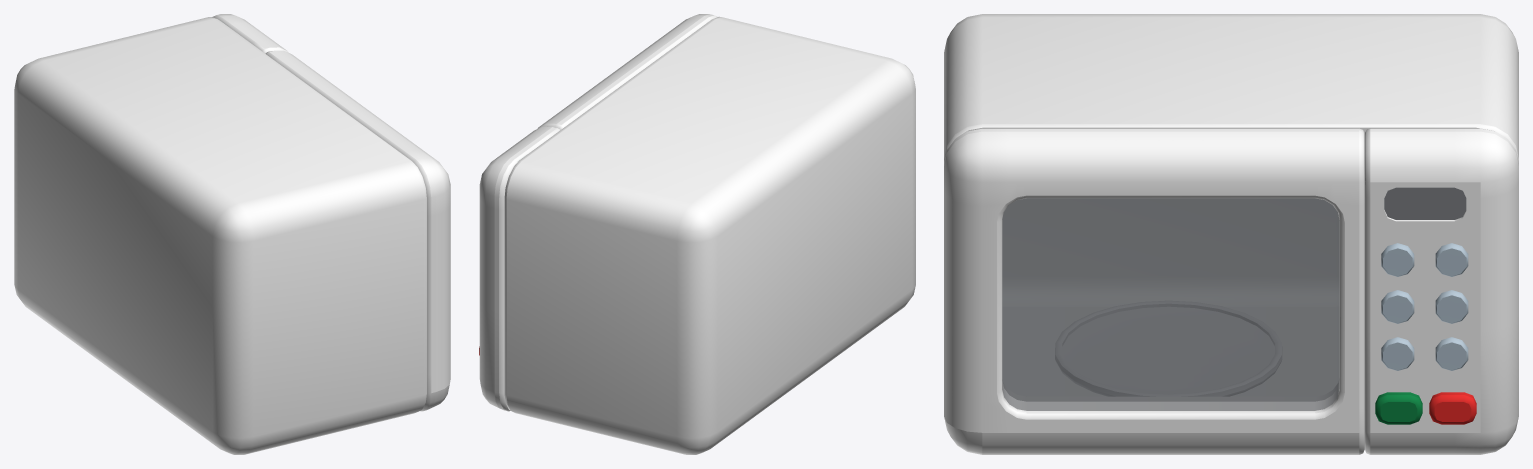
File: Microwave.glb
3 renders of one model, left to right at view 1: azimuth 30°, elevation 25°; view 2: azimuth 150°, elevation 25°; view 3: azimuth 270°, elevation 25°, orthographic. The views are drawn at different scales.
Visible parts, largest first — view 1: Microwave, Microwave_door; view 2: Microwave, Microwave_door; view 3: Microwave, Microwave_door.
Part boxes in pixels (x1,y1,x2,y2): Microwave: (14,14,426,454); Microwave_door: (265,50,450,411); Microwave: (479,16,915,454); Microwave_door: (537,14,717,129); Microwave: (944,14,1518,454); Microwave_door: (944,128,1364,454).
Size of the model in its own units: 0.3458 by 0.341 by 0.5554.
3 materials, 2 textured.
